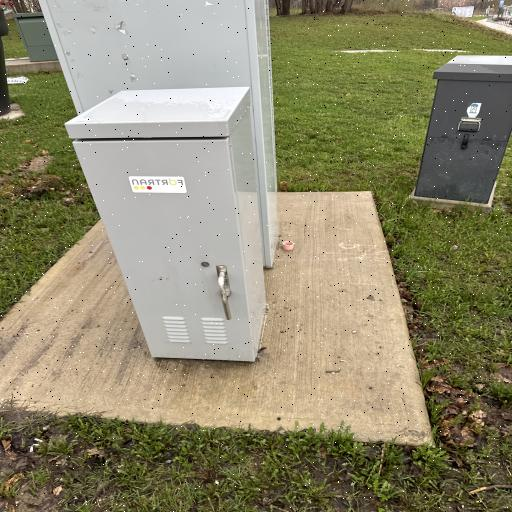Electrical Box: (32, 1, 272, 362), (411, 54, 512, 207)
